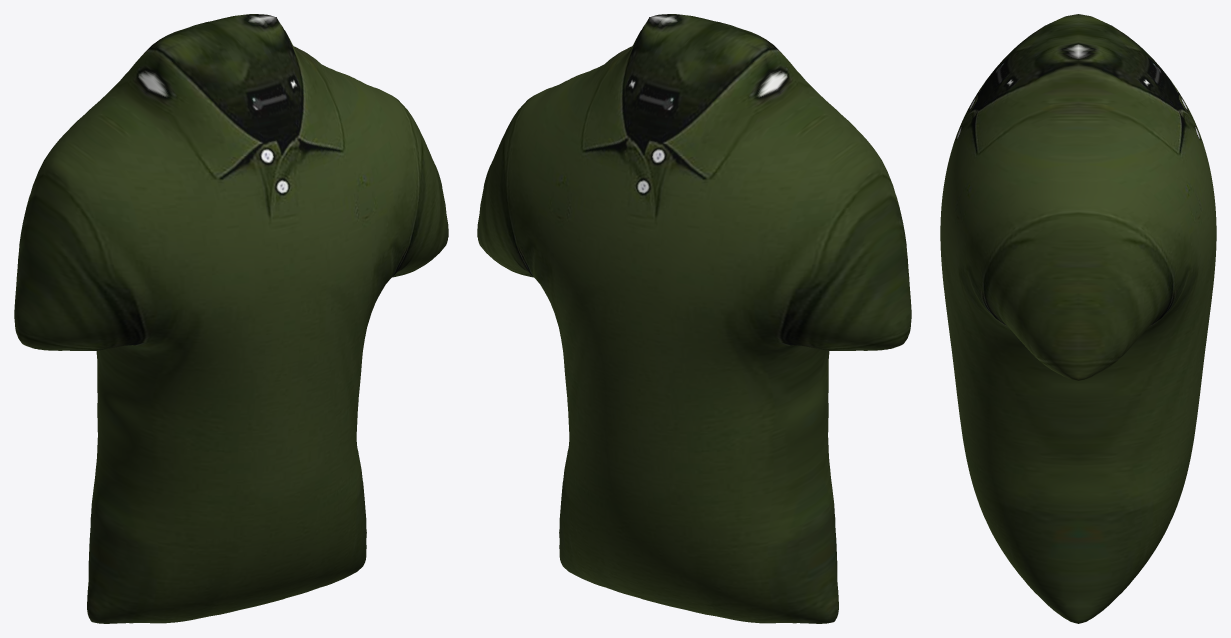
Rendered from cloth@8=cloth_front.glb.
3 renders of one model, left to right at view 1: azimuth 30°, elevation 25°; view 2: azimuth 150°, elevation 25°; view 3: azimuth 270°, elevation 25°, orthographic. The views are drawn at different scales.
Size of the model in its own units: 5.86 by 7.56 by 3.55.
Materials: 1 (1 with a texture image).
